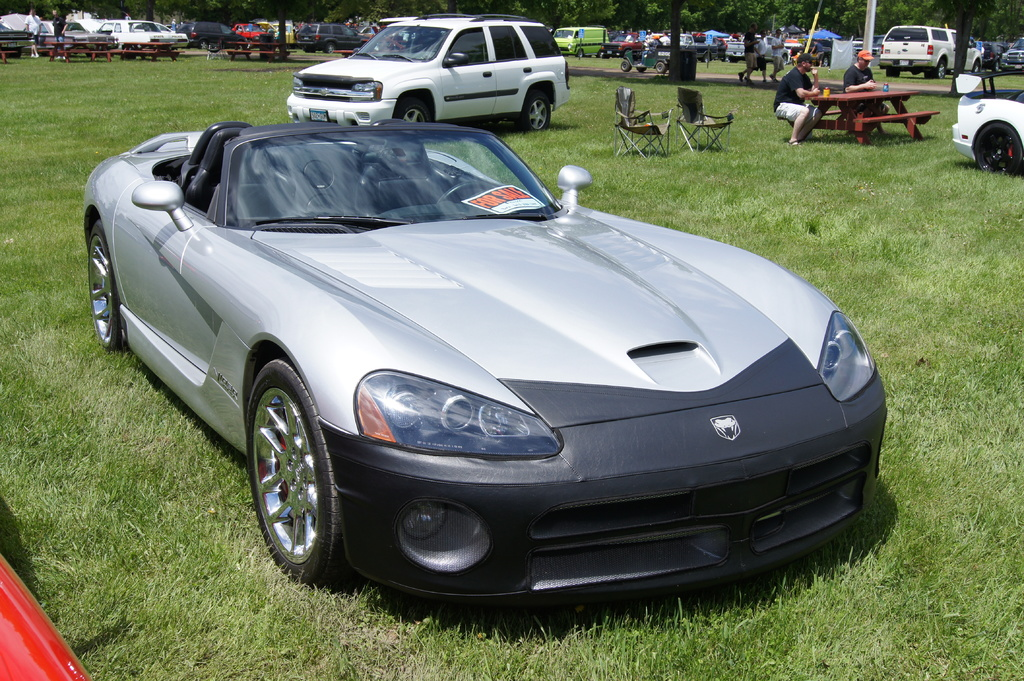Car: (105, 98, 898, 612), (282, 13, 571, 136), (23, 14, 414, 51), (0, 548, 94, 680), (851, 23, 1023, 82), (599, 27, 830, 63), (954, 68, 1023, 182), (0, 19, 36, 57)
